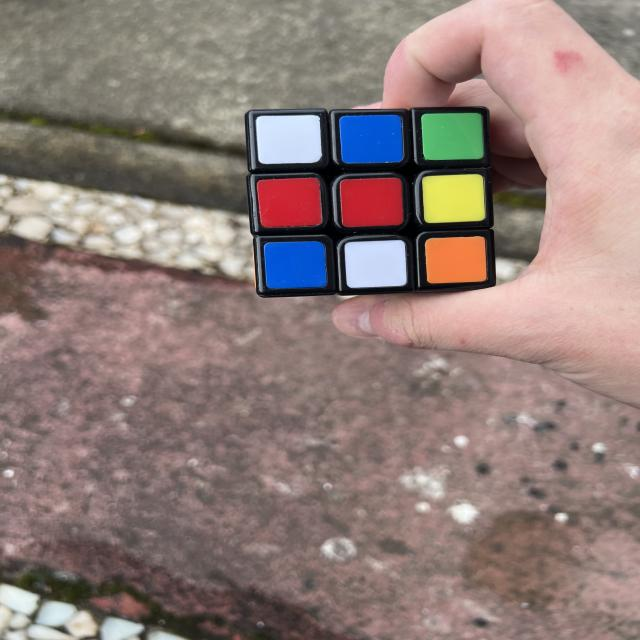blue: (339, 114, 404, 164), (263, 240, 327, 289)
center: (339, 177, 404, 228)
green: (421, 113, 484, 160)
orange: (424, 236, 487, 284)
red: (257, 177, 322, 228)
white: (255, 114, 322, 165), (344, 239, 407, 289)
yellow: (418, 173, 486, 224)
